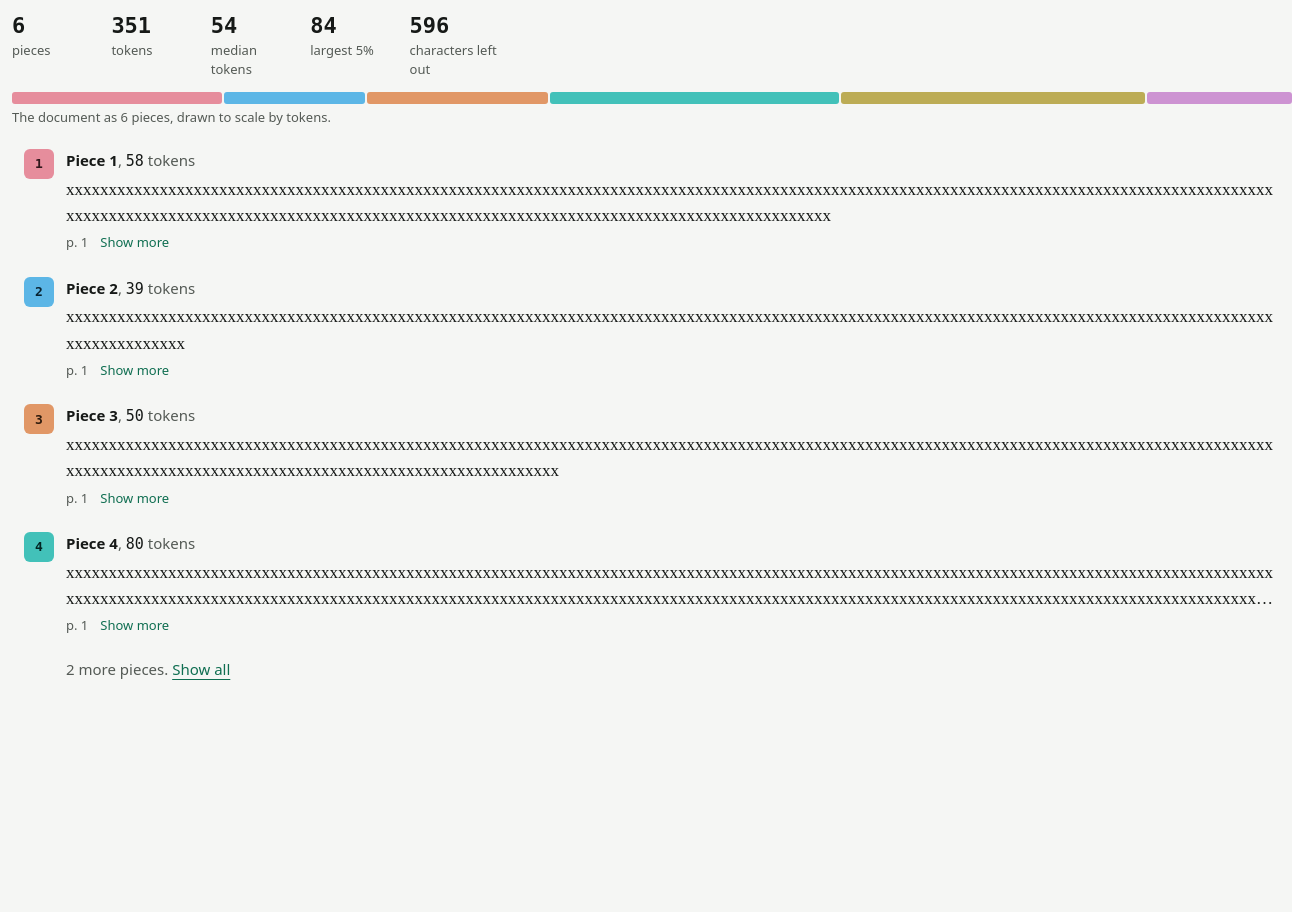
Test: ChunkEvidence › shows the numbers in sentence case, the bar to scale and four slips, then the rest on request
This screenshot has width=1292, height=912.
Expected: the text "The document as 6 pieces, drawn to scale by tokens." is shown, [12,108,331,126]
Expected: the number of elements with test id "passage" is 4, [66,177,1280,229]; [66,304,1280,357]; [66,432,1280,485]; [66,560,1280,612]
Click the button "Show all": click(201, 669) [172,658,230,680]
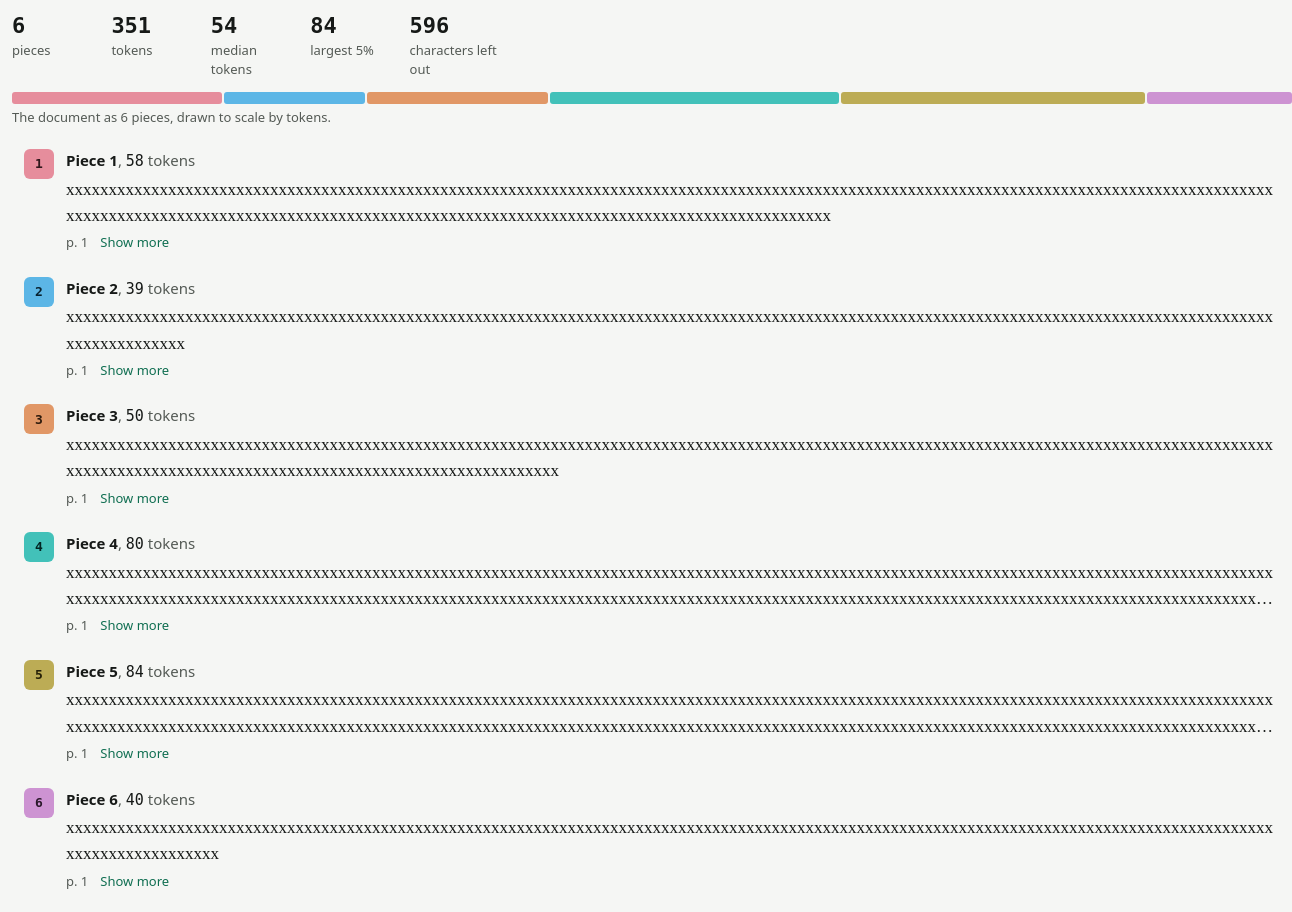
Now the number of elements with test id "passage" is 6, box [66,177,1280,229]; [66,304,1280,357]; [66,432,1280,485]; [66,560,1280,612]; [66,687,1280,740]; [66,815,1280,868]
